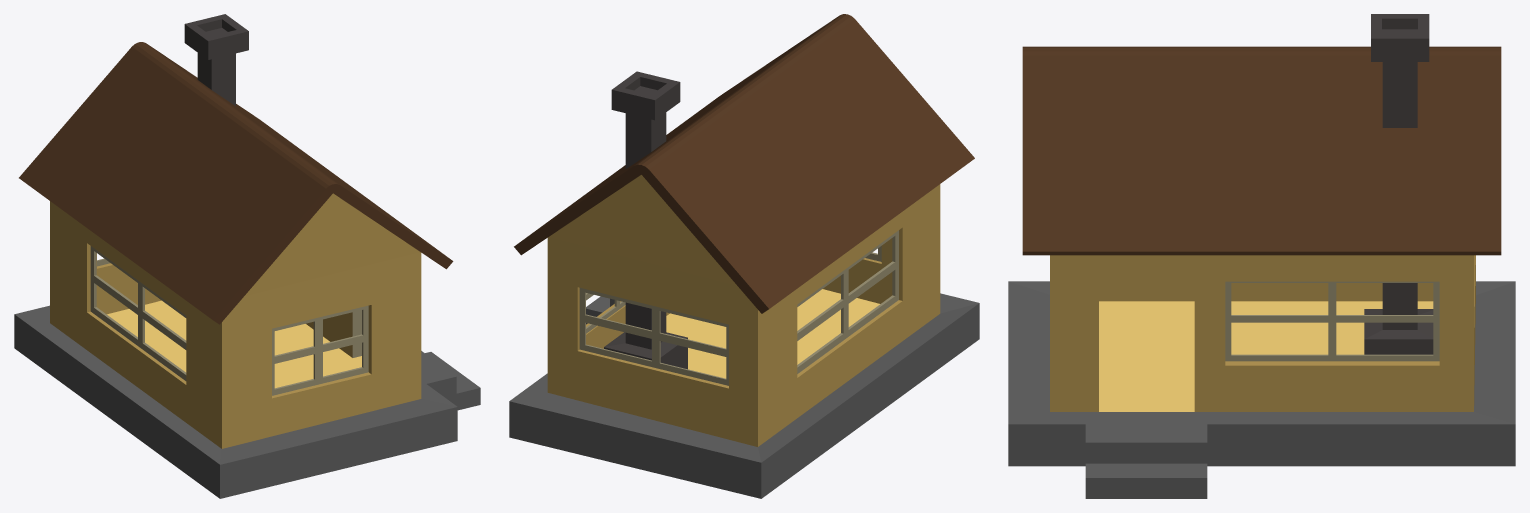
File: house.glb
The picture shows the model from 3 angles, left to right: view 1: azimuth 30°, elevation 25°; view 2: azimuth 150°, elevation 25°; view 3: azimuth 270°, elevation 25°; orthographic projection. The views are drawn at different scales.
Visible parts, largest first — view 1: HOUSE; view 2: HOUSE; view 3: HOUSE.
Boxes of the visible parts, x1,y1,x2,y2 form: HOUSE: (14, 14, 480, 498); HOUSE: (509, 14, 979, 498); HOUSE: (1008, 14, 1515, 498).
Size of the model in its own units: 5.91 by 6.1 by 7.17.
